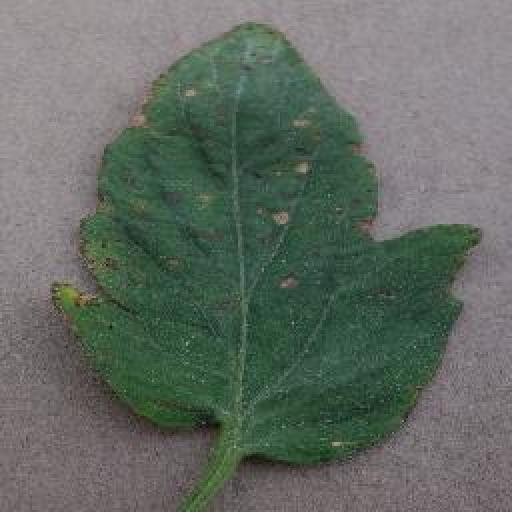Bacterial Spot: (51, 18, 485, 470)
